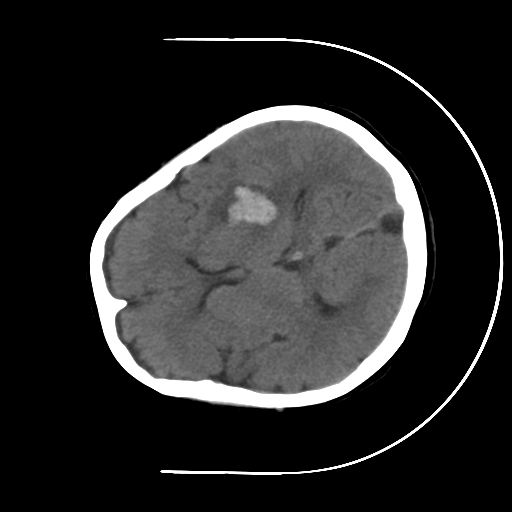a: (191, 172, 291, 238)
